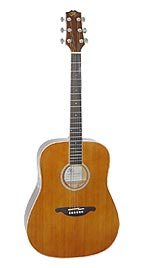guitar: (26, 10, 120, 259)
